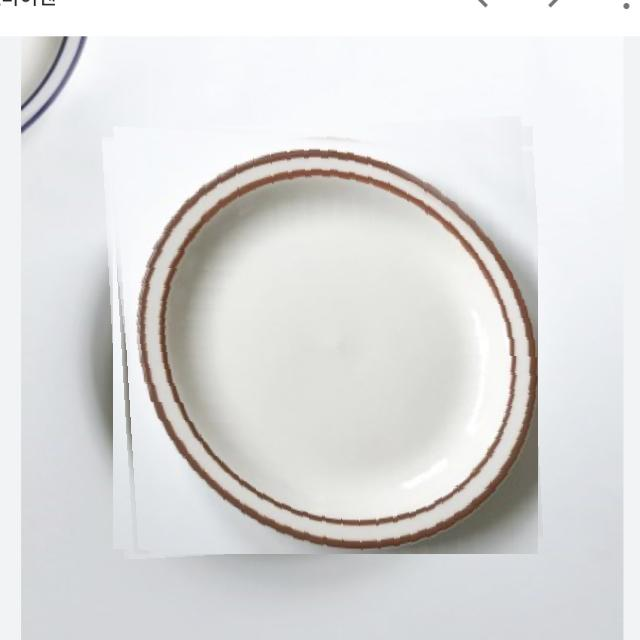recyclable: (108, 121, 538, 554)
